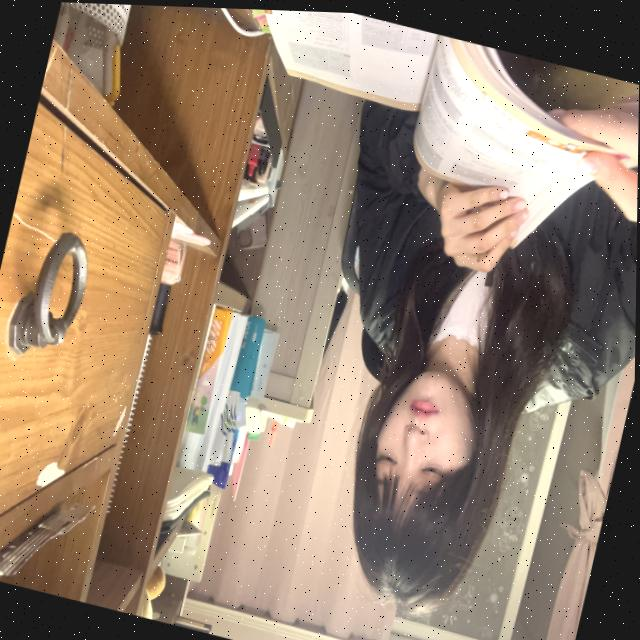studying-person: (101, 3, 640, 640)
